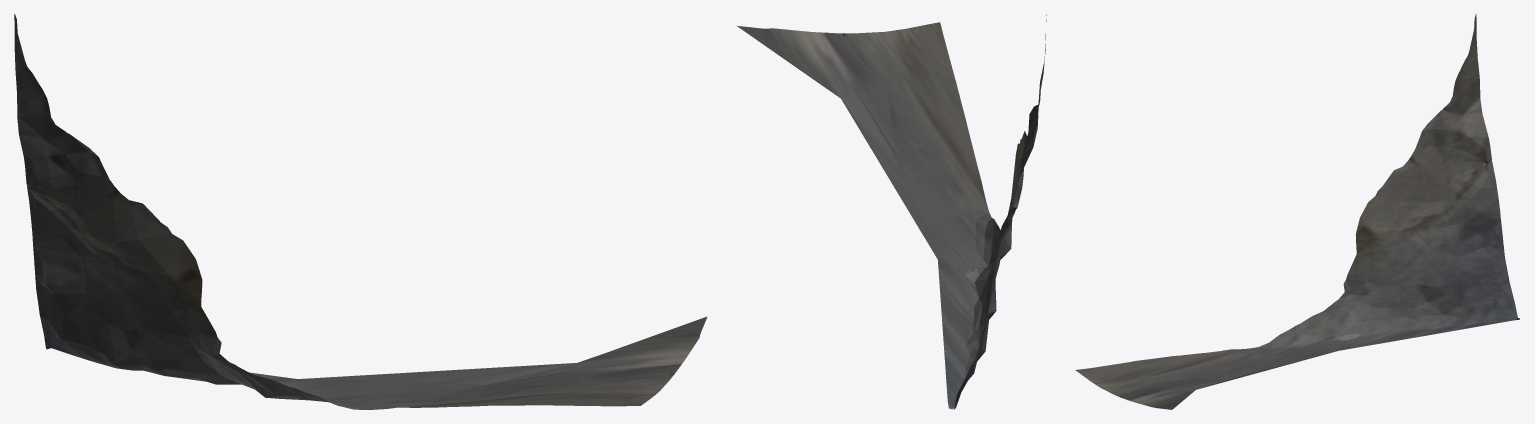
Rendered from tile_6_2.obj.
3 renders of one model, left to right at view 1: azimuth 30°, elevation 25°; view 2: azimuth 150°, elevation 25°; view 3: azimuth 270°, elevation 25°, orthographic. The views are drawn at different scales.
Visible parts, largest first — view 1: texture_0; view 2: texture_0; view 3: texture_0.
Boxes of the visible parts, x1,y1,x2,y2 form: texture_0: (14, 14, 707, 409); texture_0: (736, 14, 1046, 409); texture_0: (1075, 14, 1519, 409).
Size of the model in its own units: 0.3032 by 0.2173 by 0.3101.
1 material, 1 textured.
